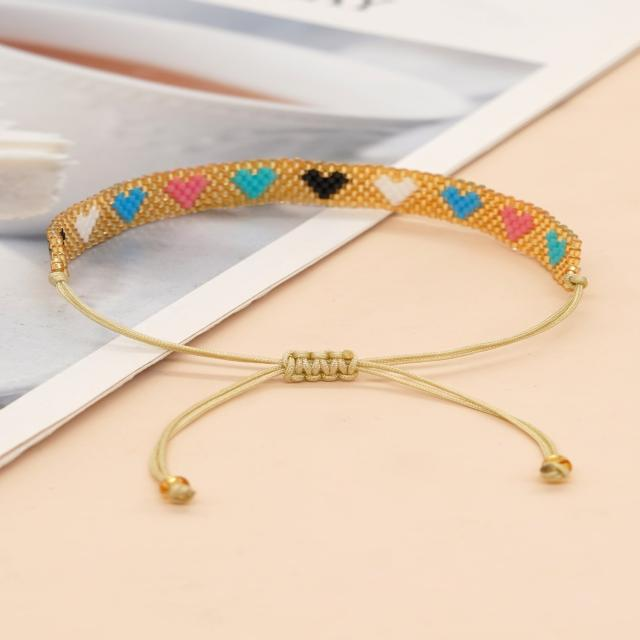bracelet: (0, 90, 640, 562)
